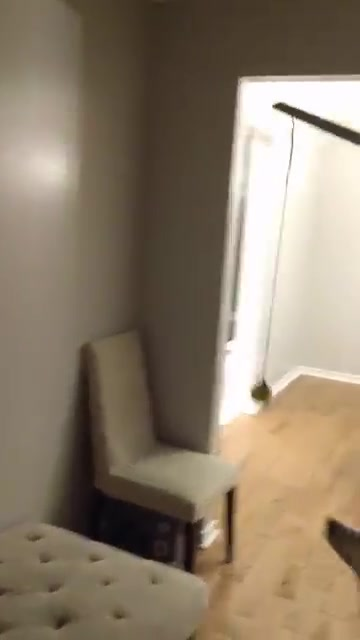tennis_ball: (250, 380, 273, 403)
